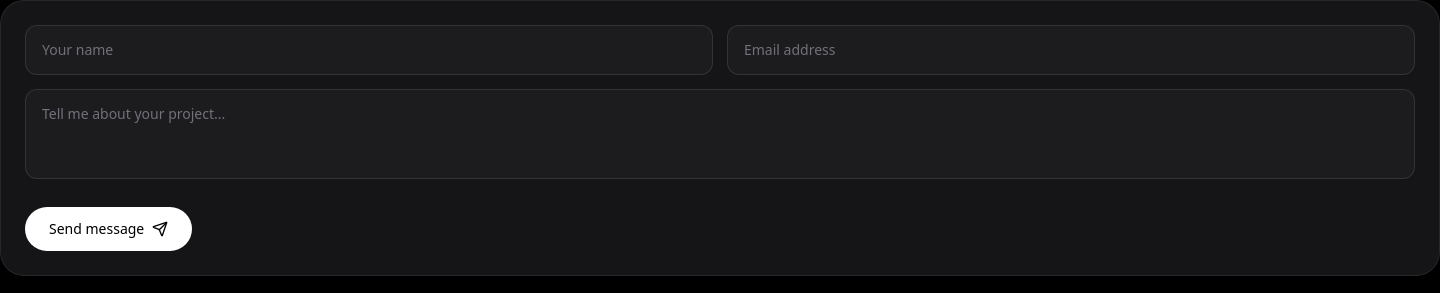
it: ContactForm › keeps the message and offers the email address when the service fails
Type "Ada" into the field labelled "Your name" at (369, 50), box x1=25 y1=25 x2=713 y2=75
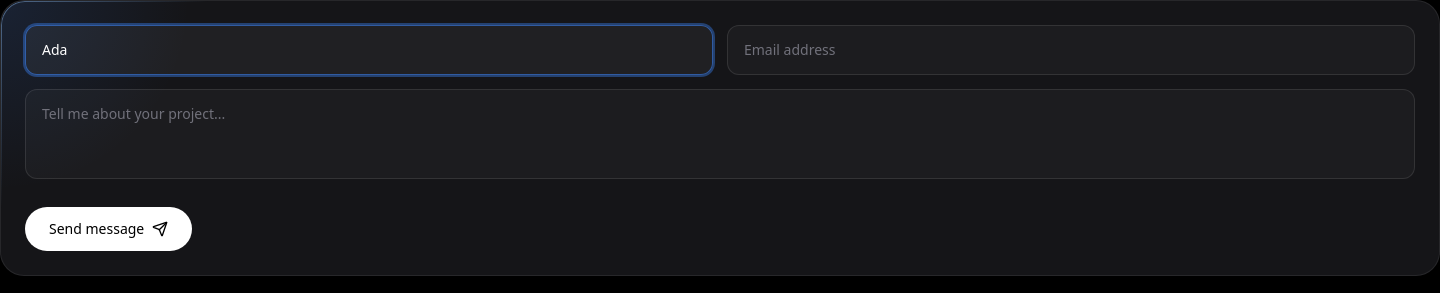
Type "ada@example.com" into the field labelled "Email address" at (1071, 50), box x1=727 y1=25 x2=1415 y2=75
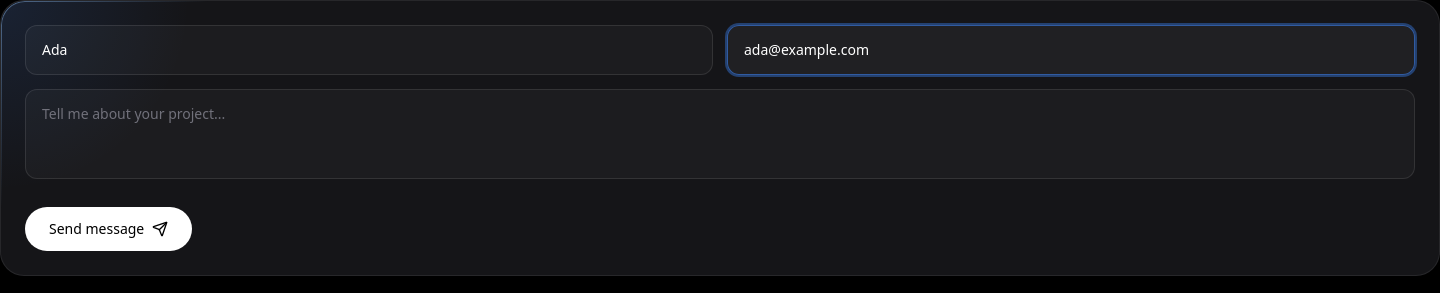
Type "Hello" into the text box labelled "Tell me about your project..." at (720, 134), box x1=25 y1=89 x2=1415 y2=179
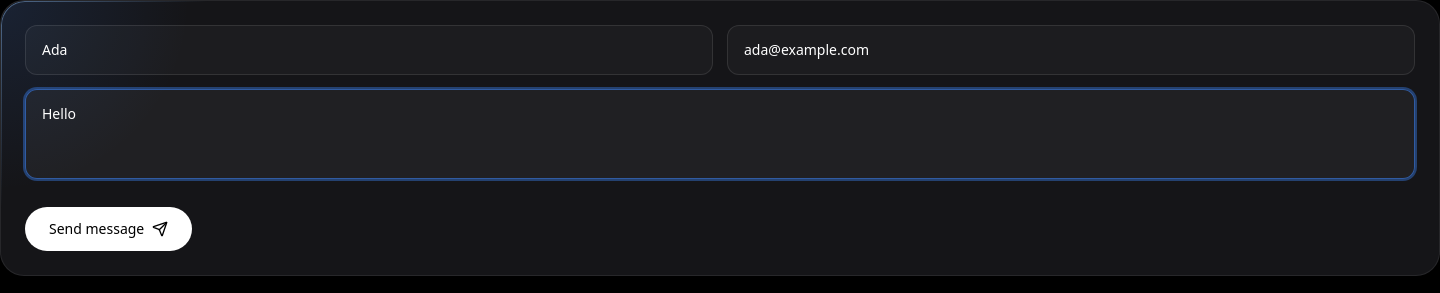
Click the button "Send message" at (109, 229), box x1=25 y1=207 x2=192 y2=251
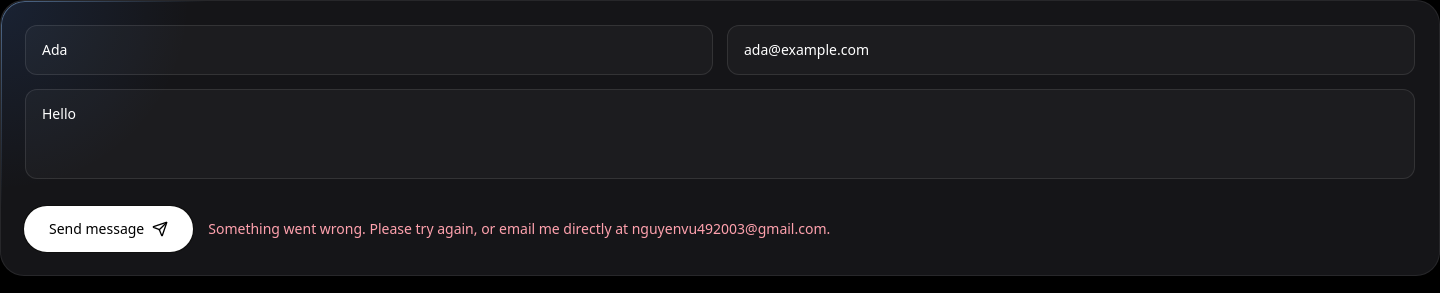
Result: the text "Something went wrong" shows "nguyenvu492003@gmail.com" at x1=208 y1=219 x2=830 y2=238
